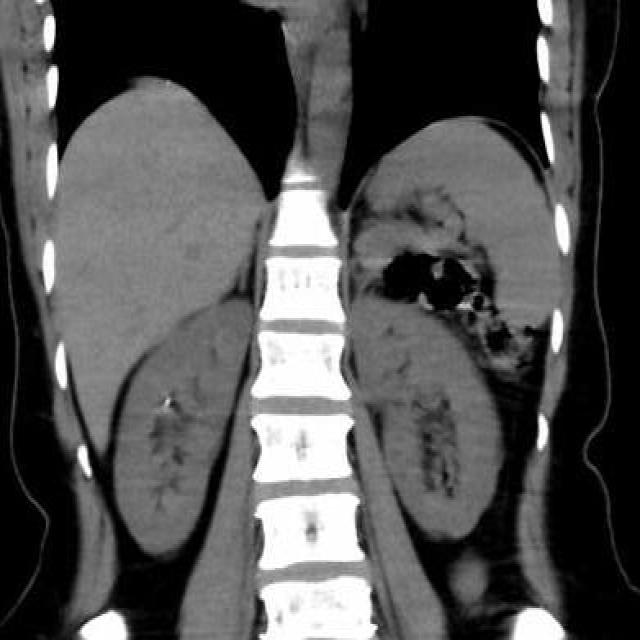Tas_Var: (161, 392, 173, 410)
